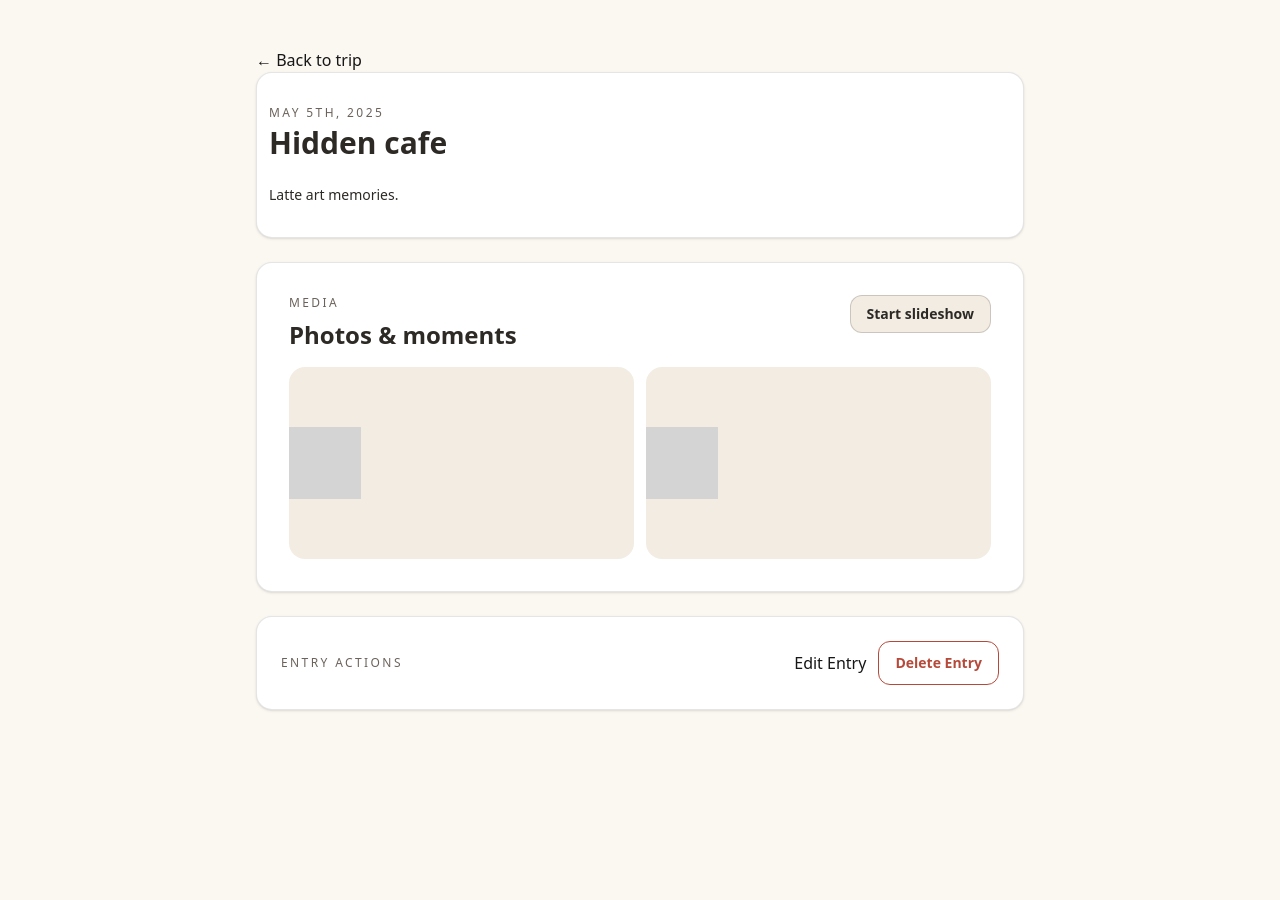
Test: EntryDetail › exits the slideshow on click
Click the button "Start slideshow" at (920, 314), box x1=850 y1=295 x2=991 y2=333
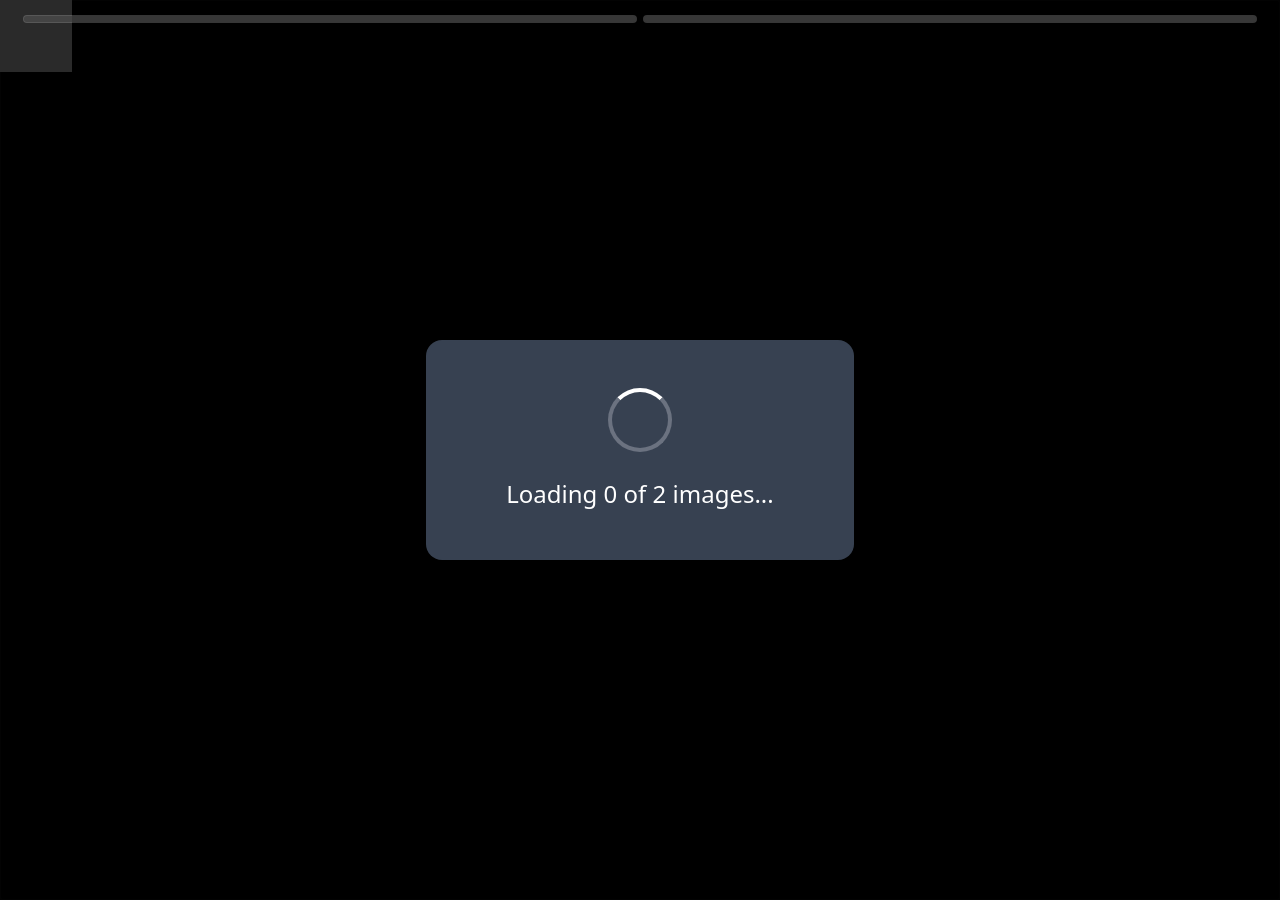
Click the dialog at (640, 450), box x1=0 y1=0 x2=1279 y2=899
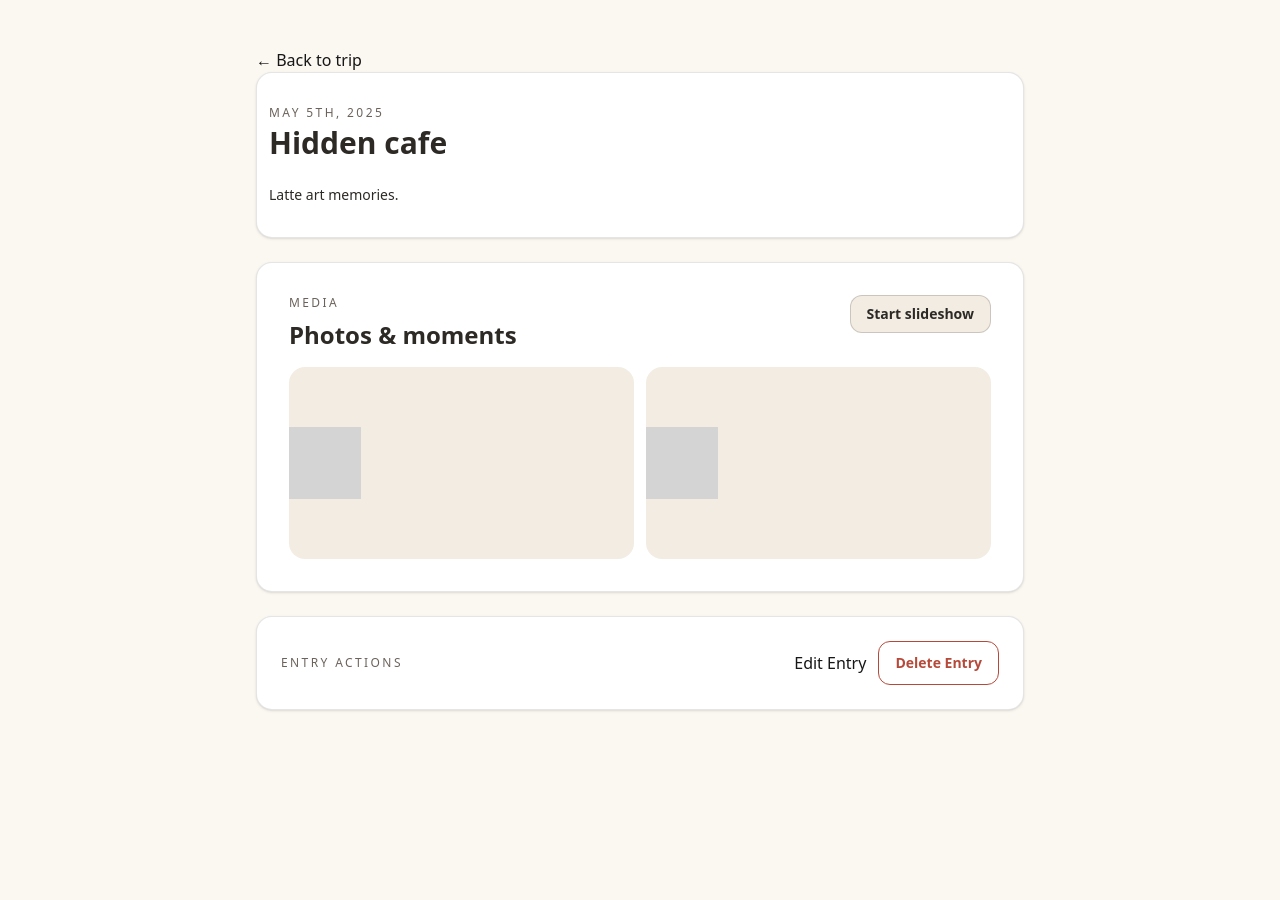
Expected: the dialog is gone
